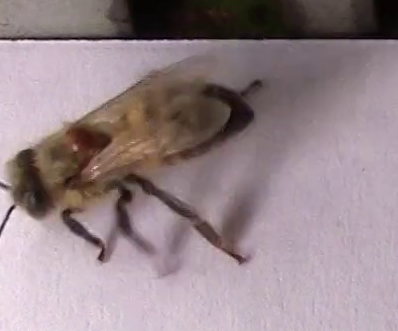Varroa destructor: (63, 121, 111, 169)
